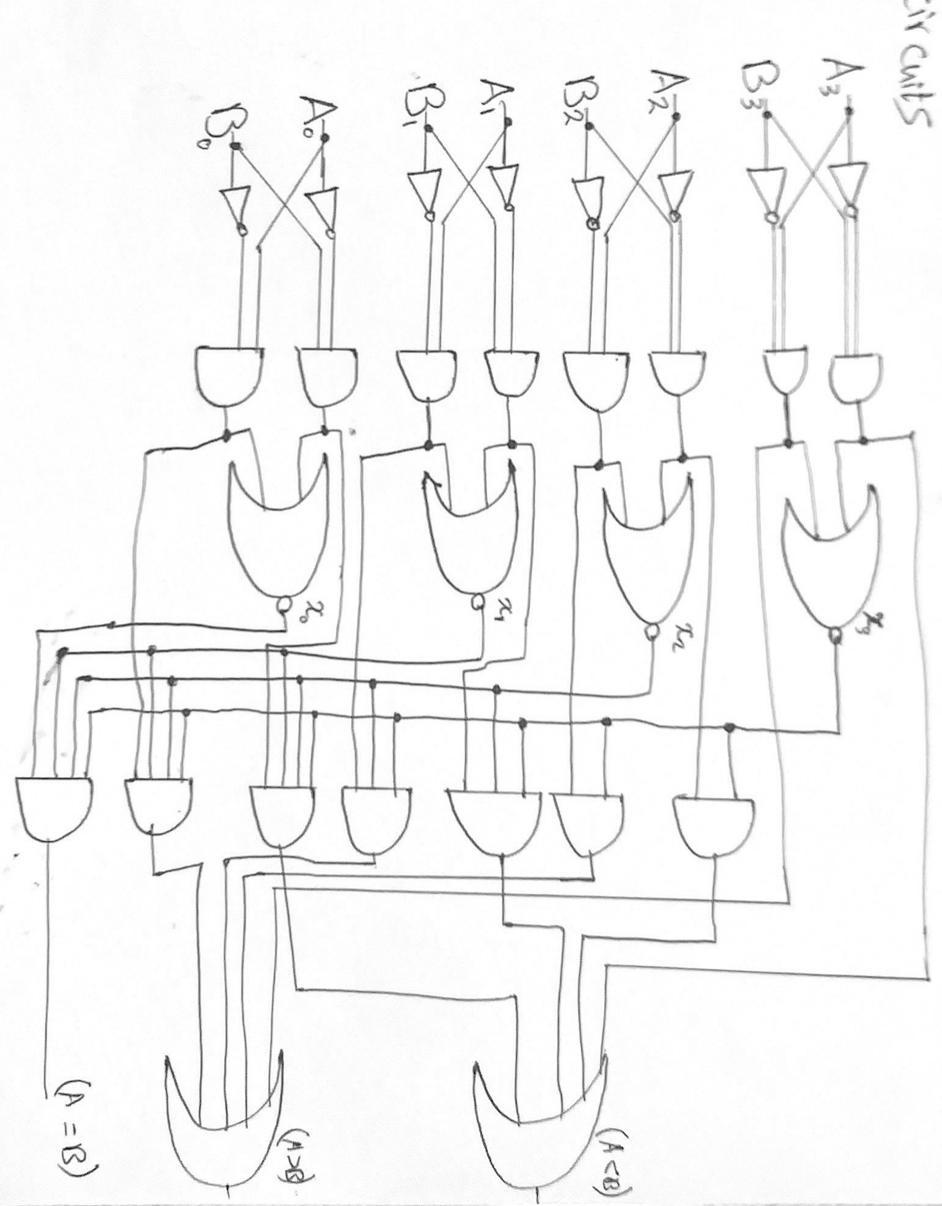AND: (440, 778, 545, 865), (665, 785, 760, 867), (7, 767, 100, 847), (337, 778, 420, 861), (238, 775, 320, 854), (553, 785, 635, 864), (553, 337, 635, 416), (821, 332, 900, 414), (290, 337, 370, 417), (182, 338, 273, 407), (120, 772, 207, 841), (390, 338, 466, 412), (644, 335, 718, 408), (481, 335, 545, 411), (757, 337, 815, 407)
NOR: (776, 473, 895, 648), (215, 447, 337, 617), (595, 468, 705, 643), (414, 455, 525, 611)
NOT: (737, 162, 798, 230), (208, 180, 263, 244), (395, 163, 448, 229), (480, 158, 535, 220), (825, 157, 878, 220), (300, 180, 355, 240), (565, 173, 615, 236), (655, 168, 702, 230)
OR: (462, 1043, 609, 1196), (150, 1040, 292, 1189)
